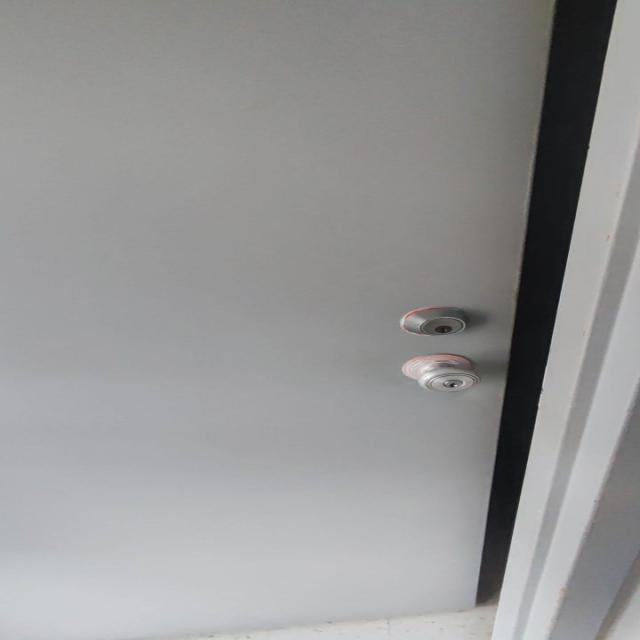door-knob: (403, 354, 481, 392)
